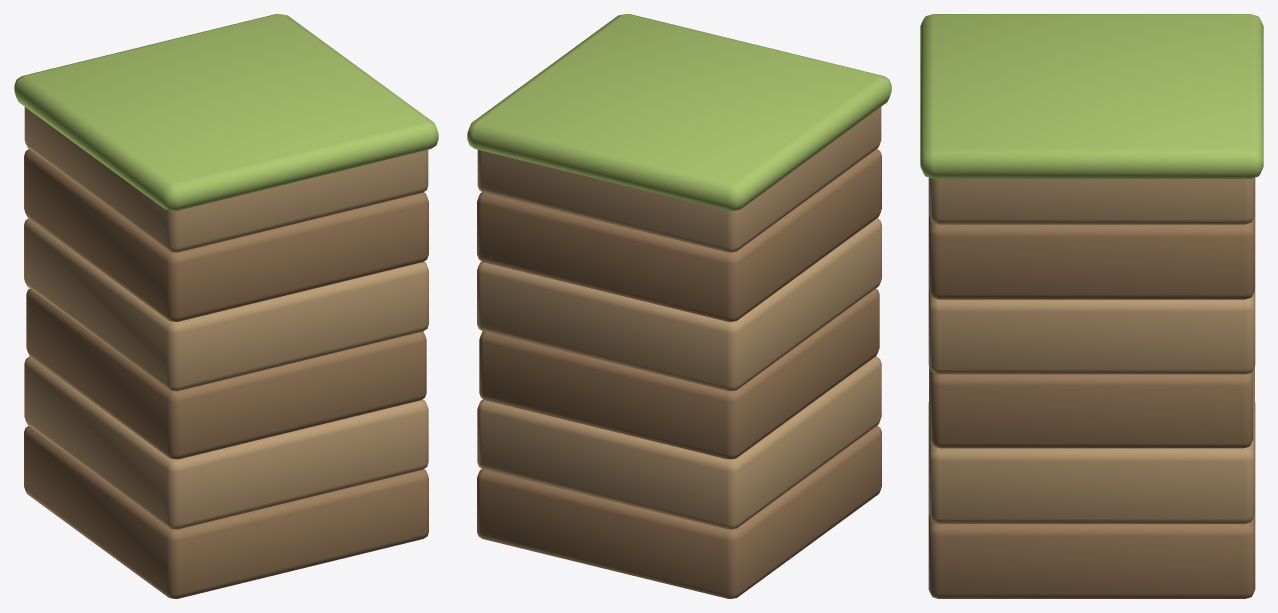
File: tile-cliff.glb
3 renders of one model, left to right at view 1: azimuth 30°, elevation 25°; view 2: azimuth 150°, elevation 25°; view 3: azimuth 270°, elevation 25°, orthographic. The views are drawn at different scales.
Parts seen in each view (by area): view 1: tile; view 2: tile; view 3: tile.
Part boxes in pixels (x1,y1,x2,y2): tile: (14,14,438,598); tile: (467,14,891,598); tile: (920,14,1263,598).
Size of the model in its own units: 1.04 by 1.51 by 1.04.
